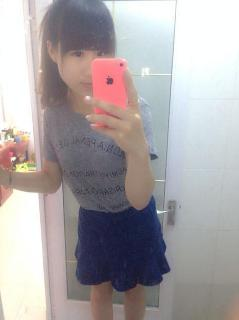short sleeve top: (42, 87, 159, 213)
skirt: (75, 195, 172, 291)
